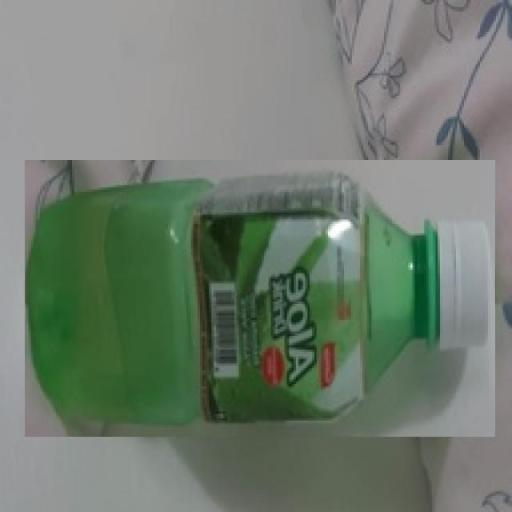plastic: (26, 174, 491, 427)
